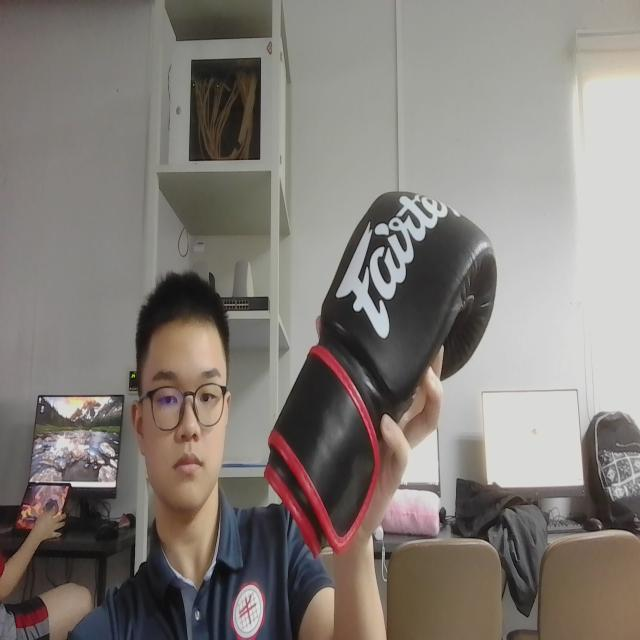boxing glove: (254, 173, 506, 574)
